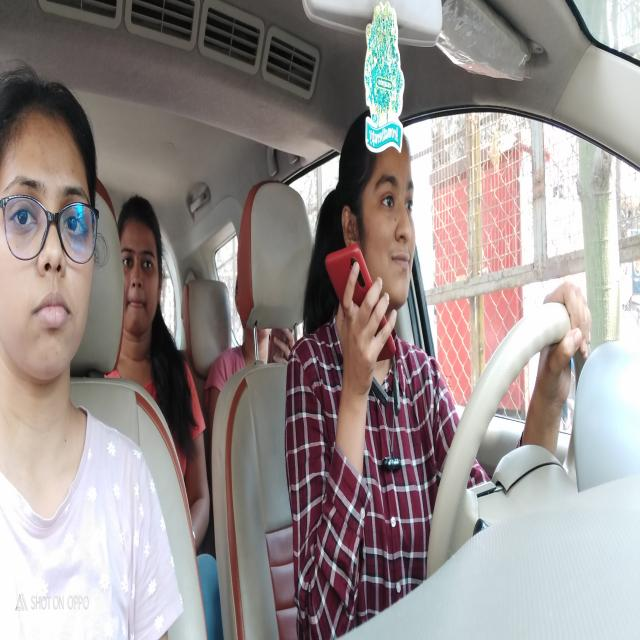mobile: (326, 249, 396, 372)
person: (4, 70, 100, 398), (338, 112, 420, 344), (122, 197, 164, 360)
